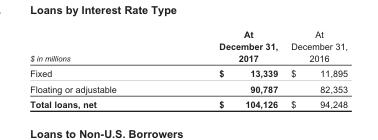table: (29, 28, 347, 109)
table column: (29, 28, 167, 109), (167, 28, 283, 109), (283, 28, 347, 109)
table column header: (29, 28, 347, 65)
table row: (29, 28, 347, 65), (29, 80, 347, 96), (29, 65, 347, 80), (29, 96, 347, 109)
